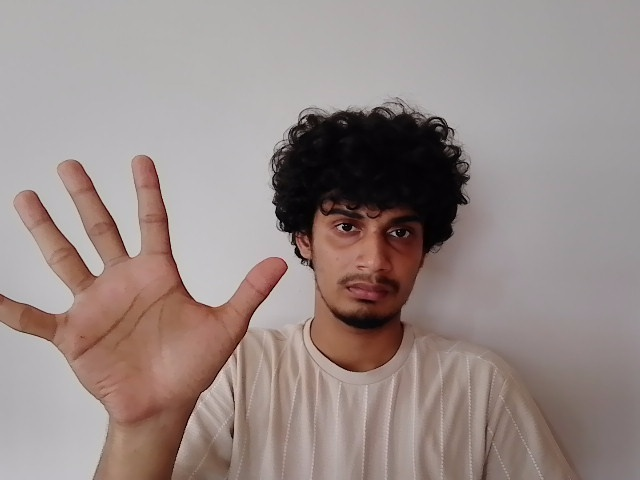goodbye: (4, 152, 294, 410)
